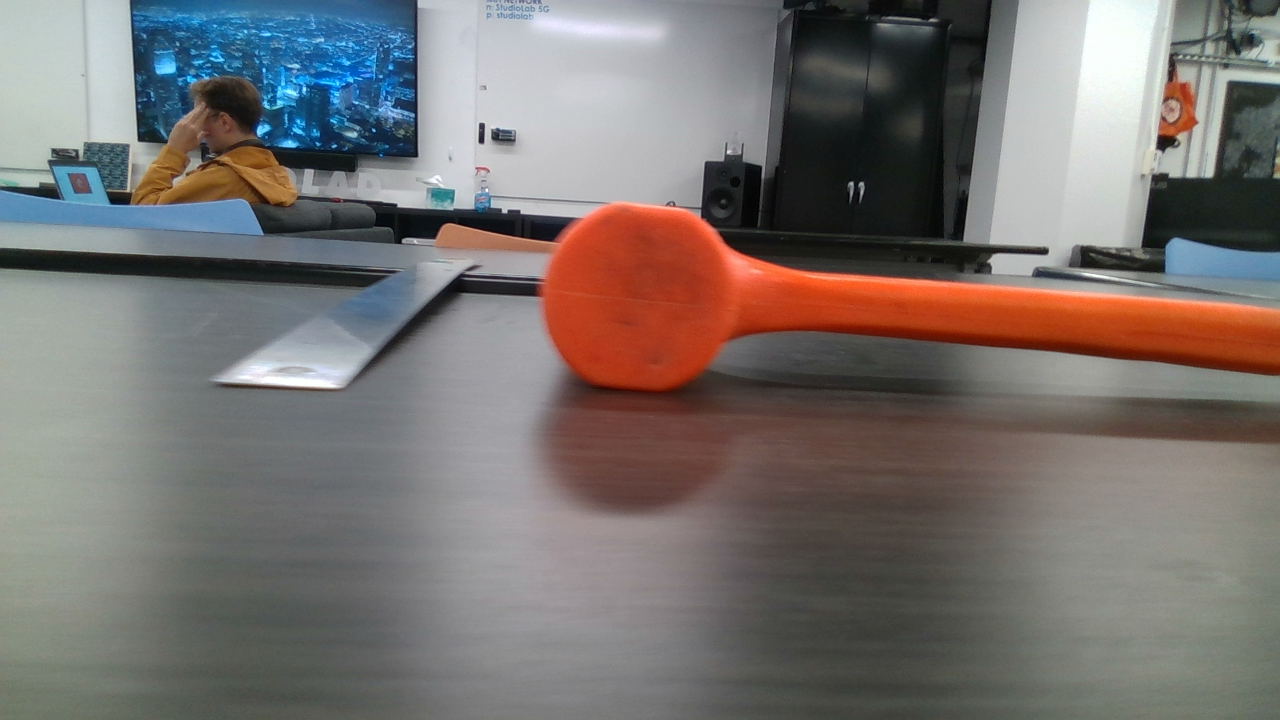Orange Hammer: (553, 203, 1273, 396)
